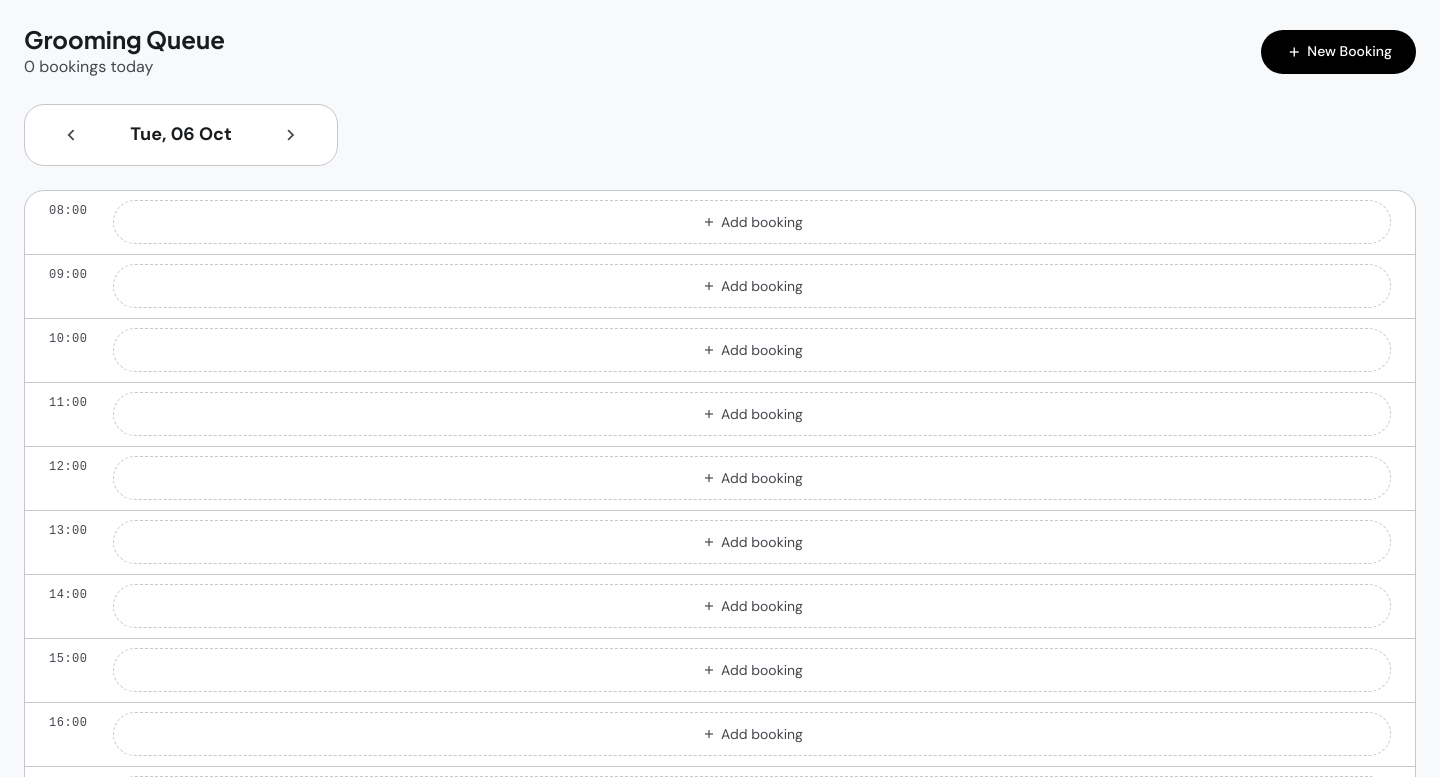
Test: ClinicGrooming — booking modal (Dialog migration, MODAL-7) › closes on the header close (X) button
Click the button "New Booking" at [1339, 52], box [1261,30,1416,74]
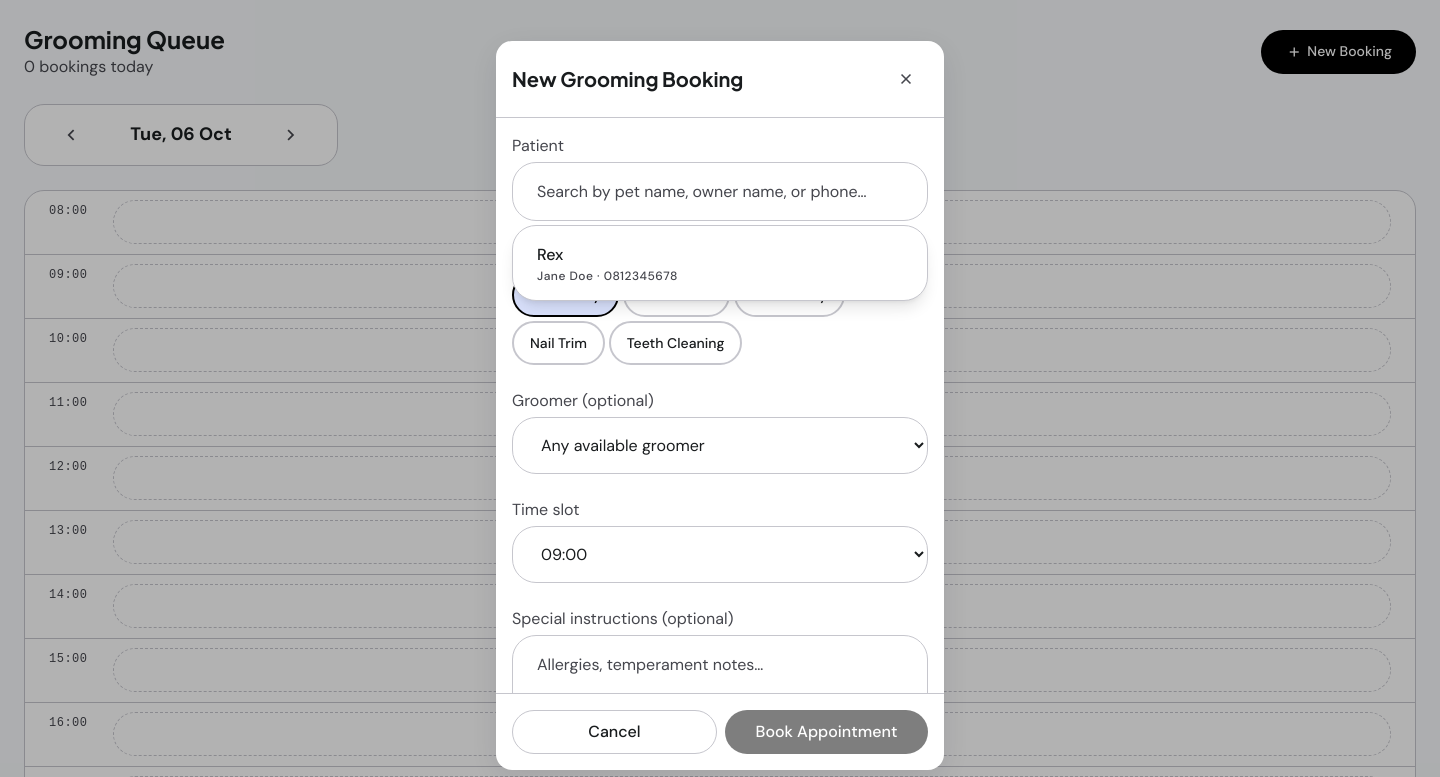
Click the button named "Close dialog" at [906, 78], box [884,56,928,100]
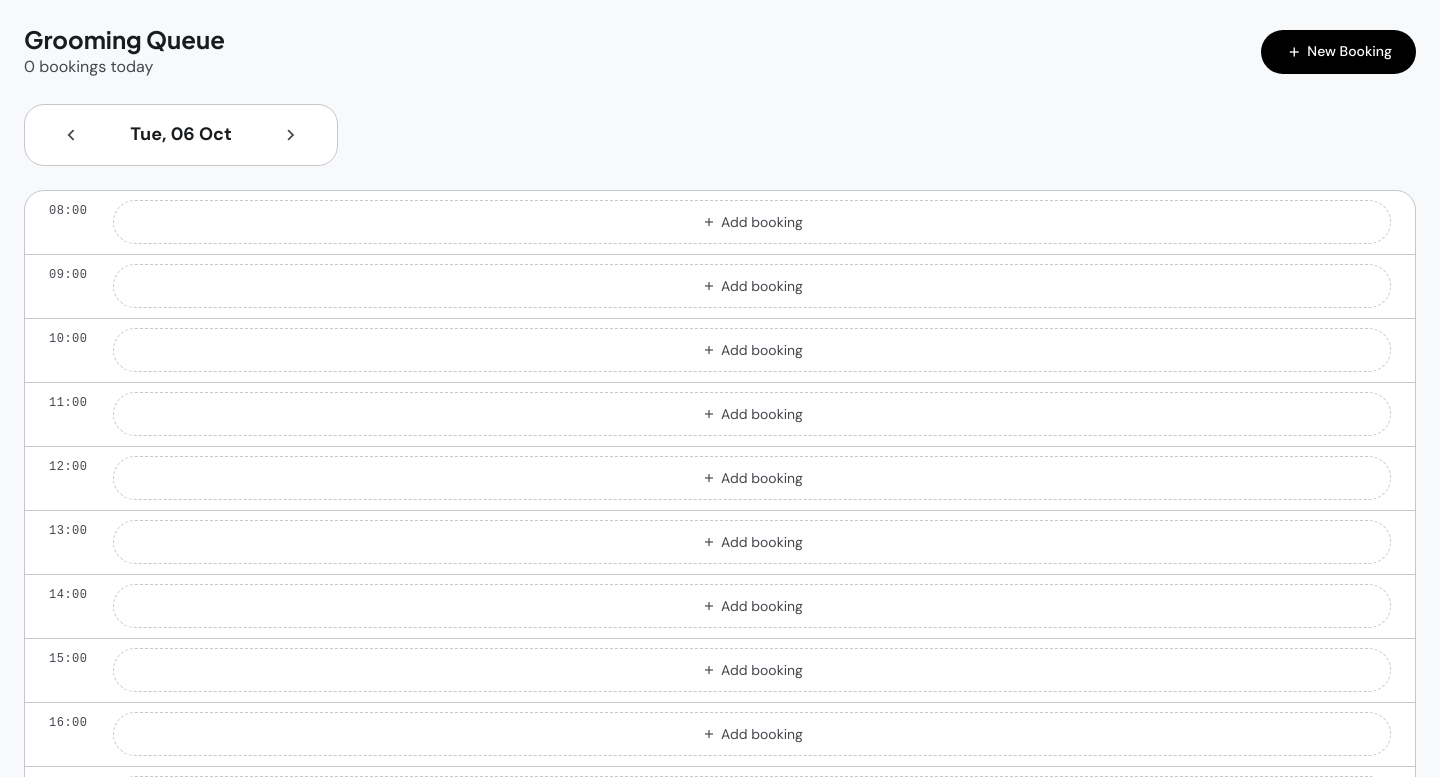
Expected: the dialog is gone
